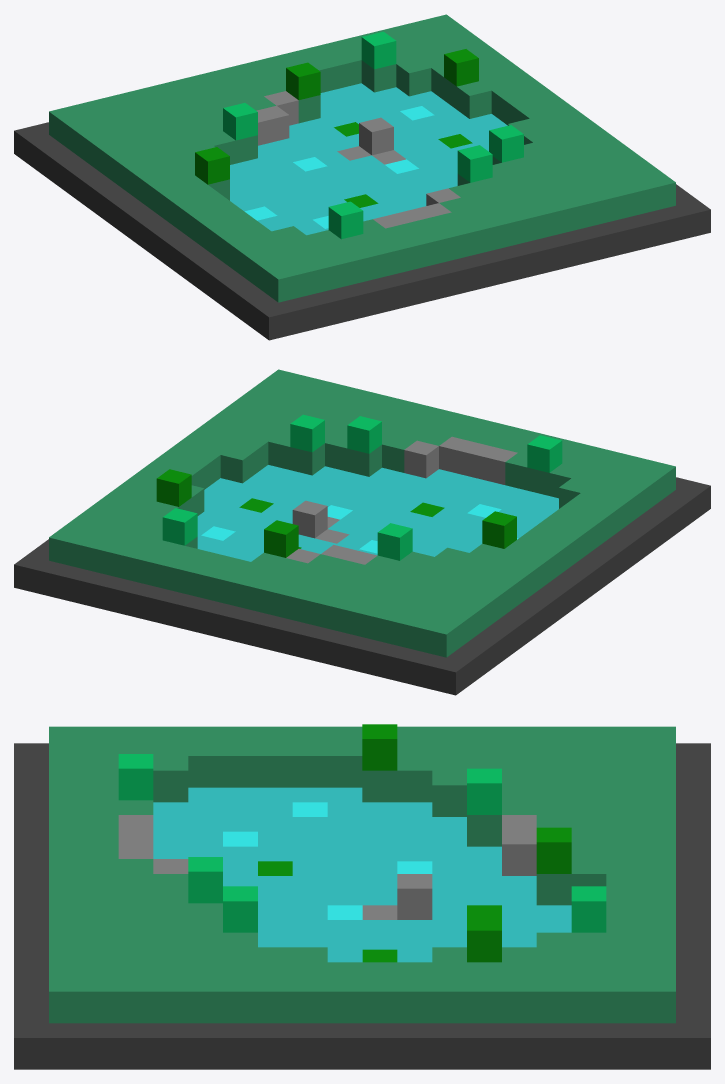
File: pond.obj
The picture shows the model from 3 angles, top to bottom: view 1: azimuth 30°, elevation 25°; view 2: azimuth 150°, elevation 25°; view 3: azimuth 270°, elevation 25°; orthographic projection. The views are drawn at different scales.
Bounding box in the file's own units: 20 × 3 × 20.
1 material, 1 textured.
